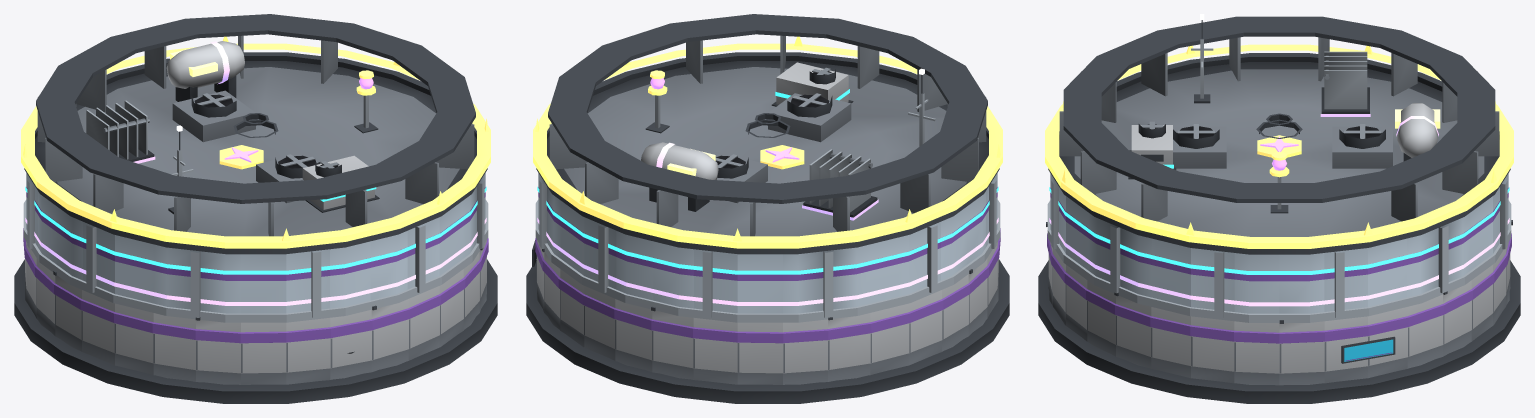
The model's file is cold_storage.glb.
3 views of the same model, side by side, from view 1: azimuth 30°, elevation 25°; view 2: azimuth 150°, elevation 25°; view 3: azimuth 270°, elevation 25° (orthographic).
Visible parts, largest first — view 1: Roof, Base, L4, Wall_21, Wall_20, Wall_22, Wall_19, Wall_23, Upper_20, Upper_22, Wall_18, Upper_21 (+38 smaller); view 2: Roof, Base, L4, Wall_10, Wall_11, Wall_09, Wall_12, Wall_08, Upper_11, Upper_09, Wall_13, Upper_10 (+39 smaller); view 3: Roof, Base, L4, Wall_00, Wall_31, Wall_30, Wall_29, Upper_01, Upper_30, Upper_00, Upper_31, Wall_01 (+39 smaller).
Part boxes in pixels (x1=…): Roof: x1=24, y1=14, x2=487, y2=254; Base: x1=14, y1=259, x2=497, y2=403; L4: x1=86, y1=41, x2=244, y2=163; Wall_21: x1=240, y1=322, x2=286, y2=384; Wall_20: x1=195, y1=317, x2=240, y2=384; Wall_22: x1=286, y1=318, x2=330, y2=384; Wall_19: x1=152, y1=313, x2=195, y2=381; Wall_23: x1=330, y1=309, x2=372, y2=379; Upper_20: x1=195, y1=251, x2=240, y2=317; Upper_22: x1=286, y1=249, x2=329, y2=317; Wall_18: x1=114, y1=303, x2=153, y2=374; Upper_21: x1=241, y1=254, x2=286, y2=313; Roof: x1=536, y1=14, x2=999, y2=254; Base: x1=526, y1=259, x2=1009, y2=403; L4: x1=641, y1=142, x2=878, y2=220; Wall_10: x1=737, y1=322, x2=783, y2=384; Wall_11: x1=783, y1=319, x2=828, y2=384; Wall_09: x1=693, y1=318, x2=737, y2=384; Wall_12: x1=828, y1=313, x2=871, y2=381; Wall_08: x1=651, y1=306, x2=693, y2=379; Upper_11: x1=783, y1=251, x2=828, y2=317; Upper_09: x1=694, y1=249, x2=737, y2=317; Wall_13: x1=870, y1=303, x2=909, y2=374; Upper_10: x1=737, y1=254, x2=782, y2=313; Roof: x1=1048, y1=16, x2=1510, y2=254; Base: x1=1038, y1=260, x2=1520, y2=403; L4: x1=1320, y1=51, x2=1440, y2=161; Wall_00: x1=1279, y1=320, x2=1324, y2=385; Wall_31: x1=1234, y1=321, x2=1279, y2=385; Wall_30: x1=1190, y1=316, x2=1234, y2=383; Wall_29: x1=1150, y1=307, x2=1190, y2=378; Upper_01: x1=1324, y1=248, x2=1367, y2=318; Upper_30: x1=1191, y1=248, x2=1234, y2=318; Upper_00: x1=1279, y1=253, x2=1324, y2=313; Upper_31: x1=1234, y1=253, x2=1279, y2=313; Wall_01: x1=1324, y1=316, x2=1368, y2=383.
Bounding box in the file's own units: 8.72 × 4.61 × 8.72.
